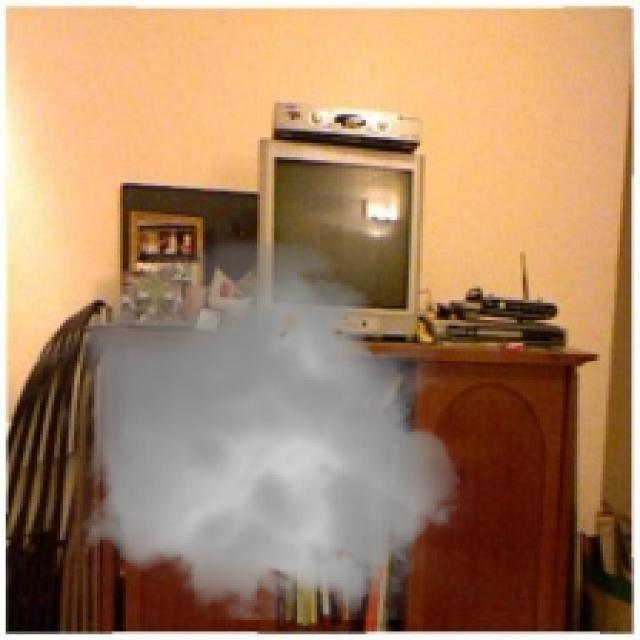smoke: (63, 226, 474, 637)
